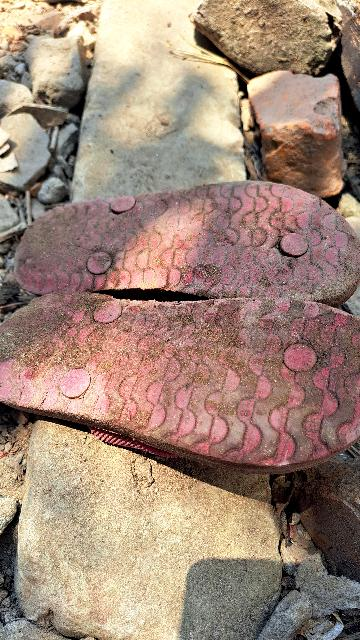sandal: (0, 182, 359, 477)
